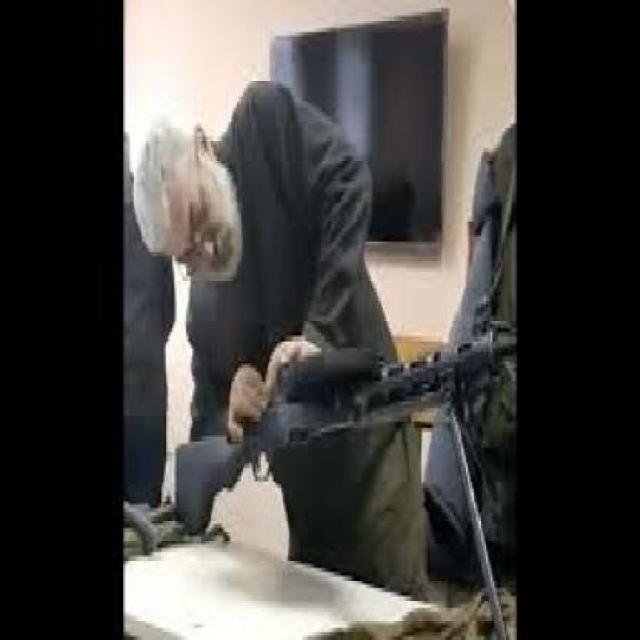weapon: (165, 310, 513, 561)
